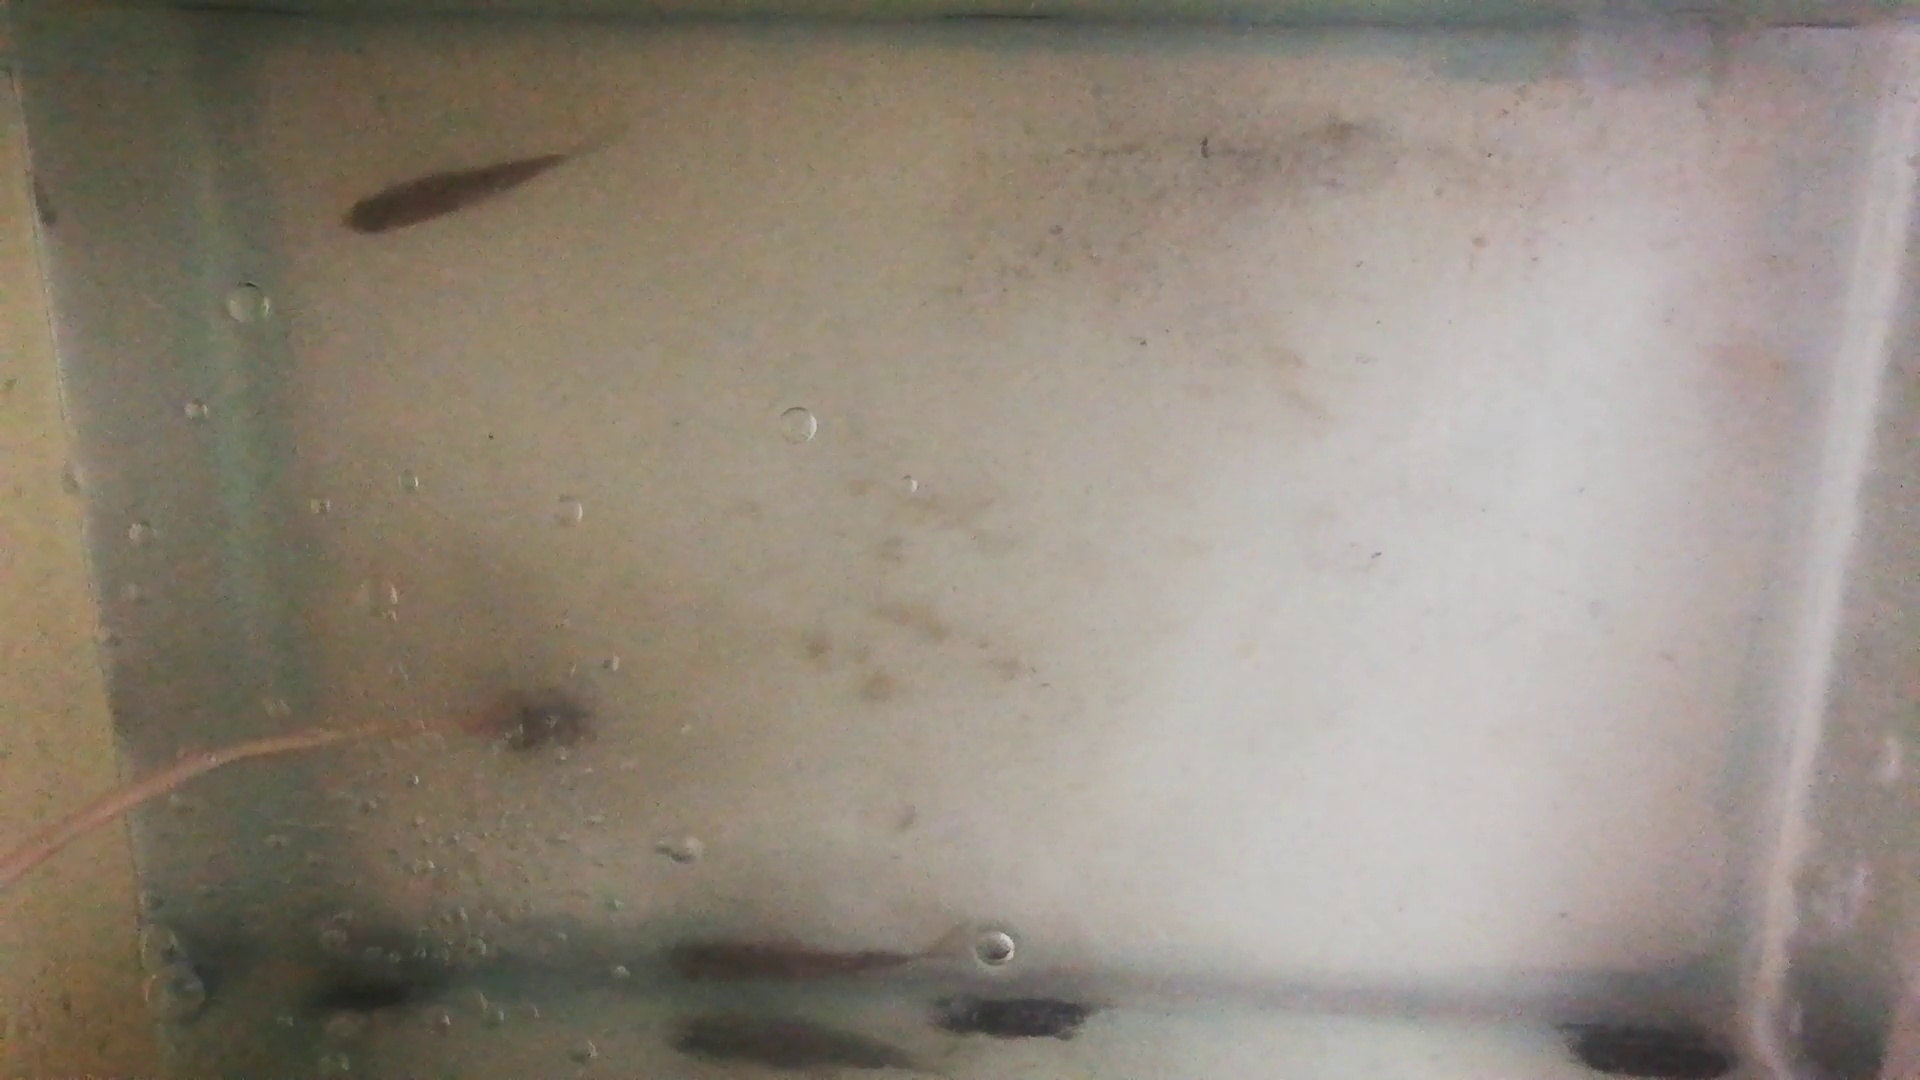fish: (339, 150, 574, 233), (665, 938, 913, 993)
